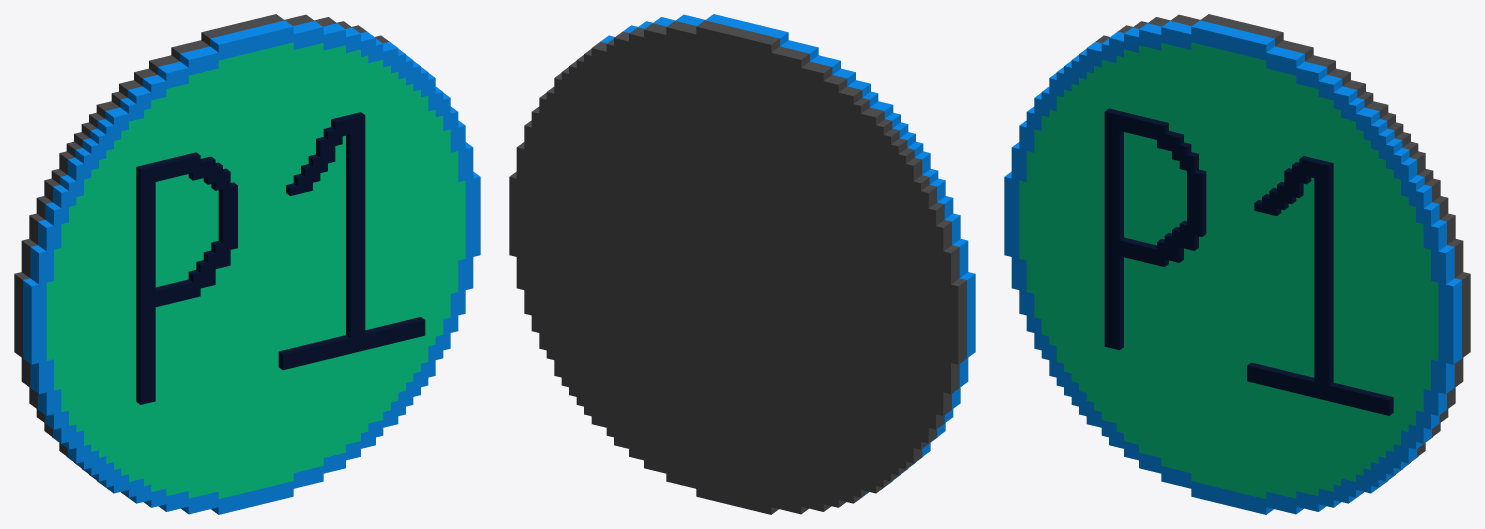
The picture shows the model from 3 angles, left to right: view 1: azimuth 30°, elevation 25°; view 2: azimuth 150°, elevation 25°; view 3: azimuth 330°, elevation 25°; orthographic projection.
Parts seen in each view (by area): view 1: p1:Mesh; view 2: p1:Mesh; view 3: p1:Mesh.
Part boxes in pixels (left/top/right/bottom): p1:Mesh: left=14, top=14, right=480, bottom=514; p1:Mesh: left=509, top=14, right=975, bottom=514; p1:Mesh: left=1004, top=14, right=1470, bottom=514.
Size of the model in its own units: 60 by 60 by 5.
Materials: 1 (1 with a texture image).
